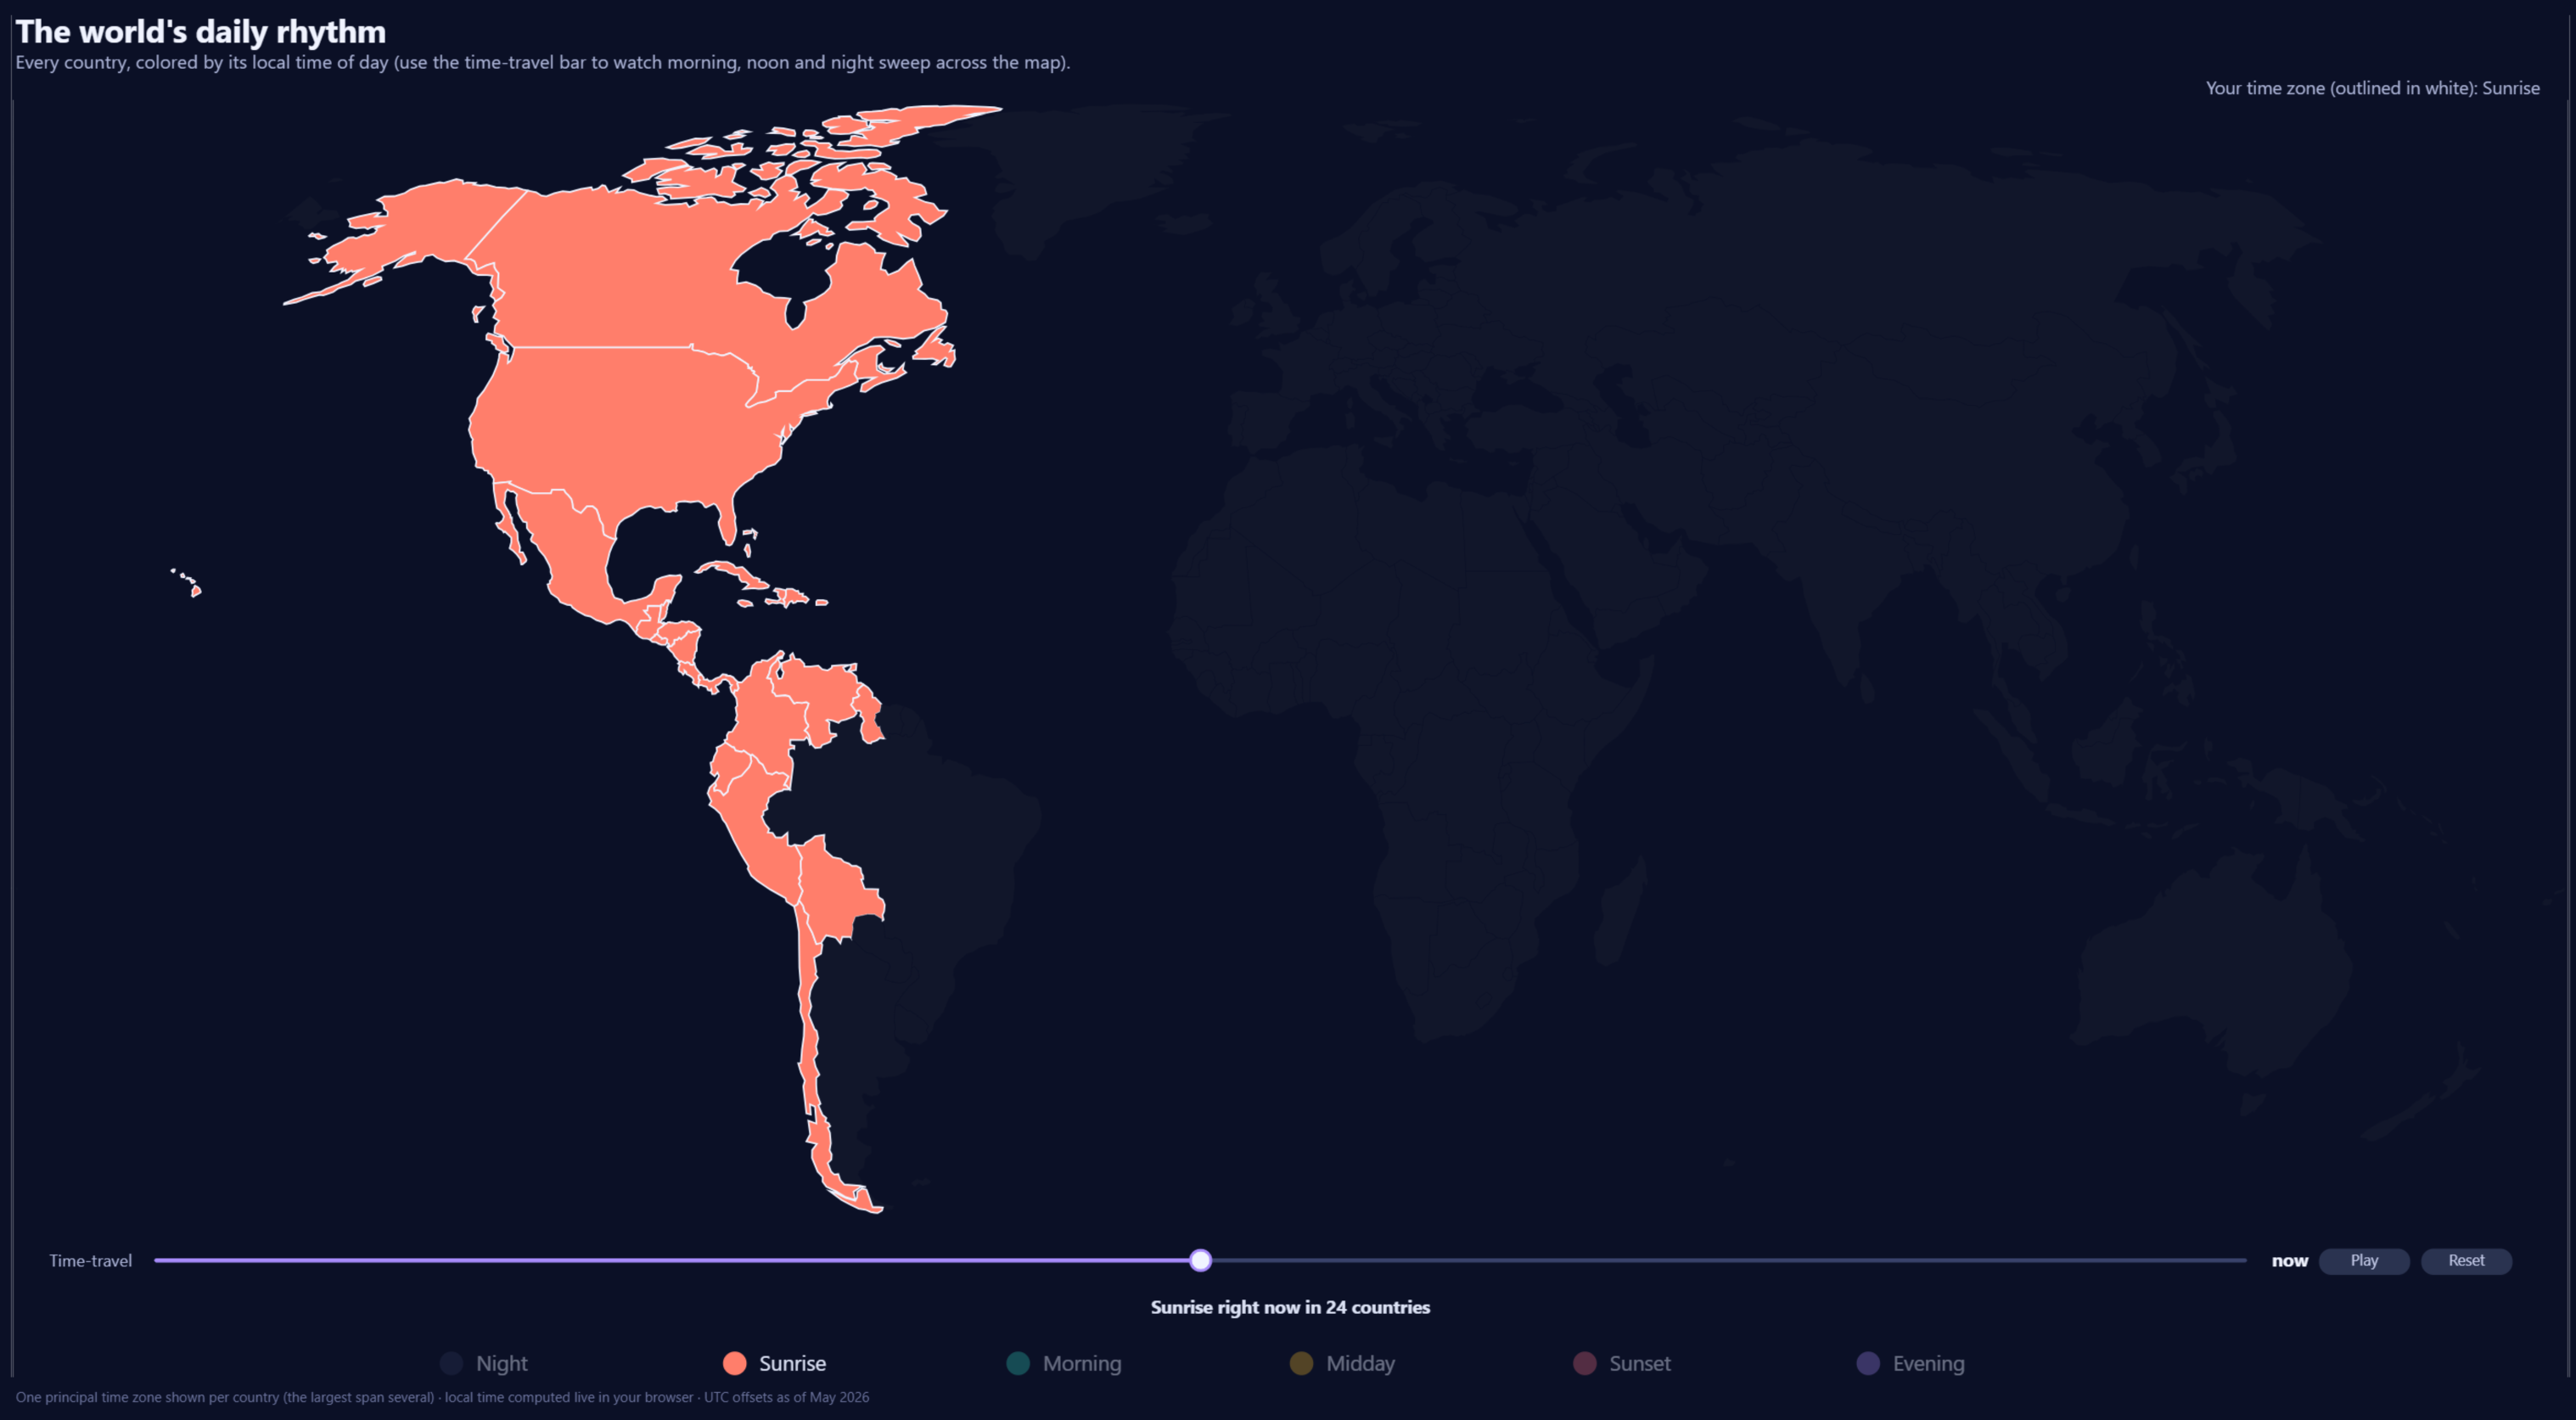

Layout of this report page (visuals, bound fields, positions):
{"tool":"powerbi","page":{"name":"Page 1","canvas":[1920,1080],"ordinal":0},"visuals":[{"type":"deneb7E15AEF80B9E4D4F8E12924291ECE89A","fields":{"dataset":["Countries.CountryId","Countries.UtcOffset","Countries.CountryName","Countries.Region"]},"box":[0,0,1920,1080],"z":0}]}

Visuals, with their boxes in screenshot pixels (x1, y1, x2, y2), scaled from the page's 1920x1080 canvas onto the 2576x1420 screenshot:
deneb7E15AEF80B9E4D4F8E12924291ECE89A - Countries.CountryId x Countries.UtcOffset: crop(0, 0, 2575, 1419)
